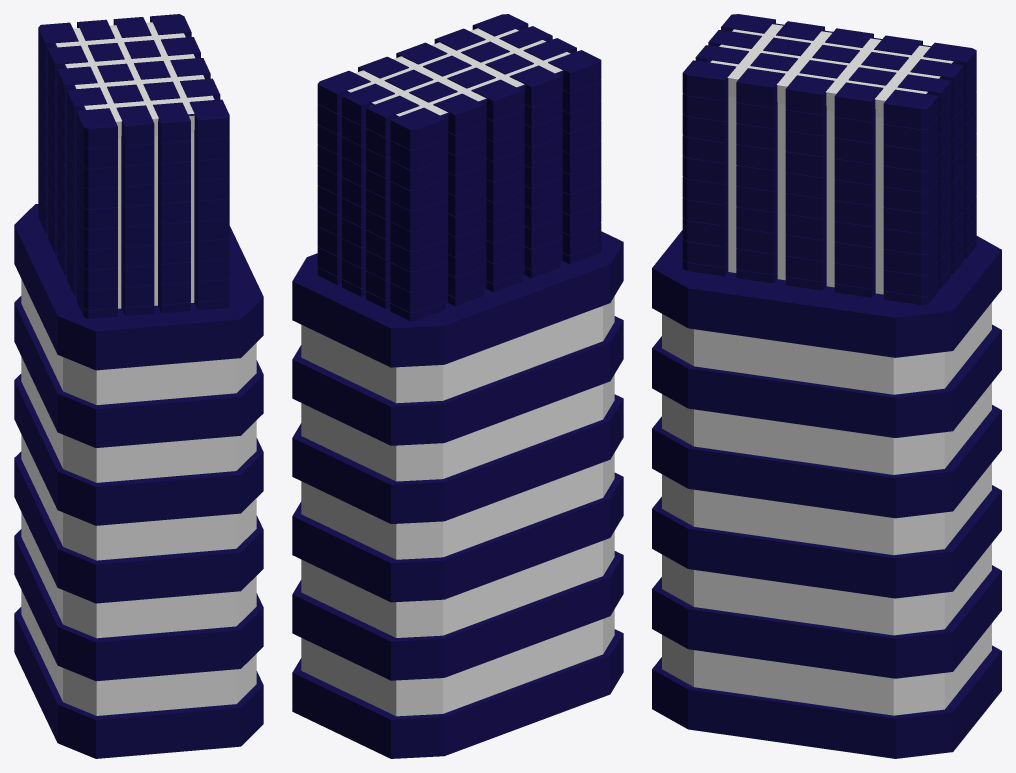
Rendered from Buliding5.fbx.
3 renders of one model, left to right at view 1: azimuth 30°, elevation 25°; view 2: azimuth 150°, elevation 25°; view 3: azimuth 270°, elevation 25°, orthographic. The views are drawn at different scales.
Visible parts, largest first — view 1: Cube.008, Cube.018; view 2: Cube.008, Cube.018; view 3: Cube.008, Cube.018.
Boxes of the visible parts, x1,y1,x2,y2 form: Cube.008: [14, 204, 263, 758]; Cube.018: [38, 14, 229, 318]; Cube.008: [292, 231, 623, 758]; Cube.018: [317, 14, 601, 320]; Cube.008: [652, 230, 1001, 758]; Cube.018: [682, 14, 976, 304].
Size of the model in its own units: 3994 by 10121 by 5034.
